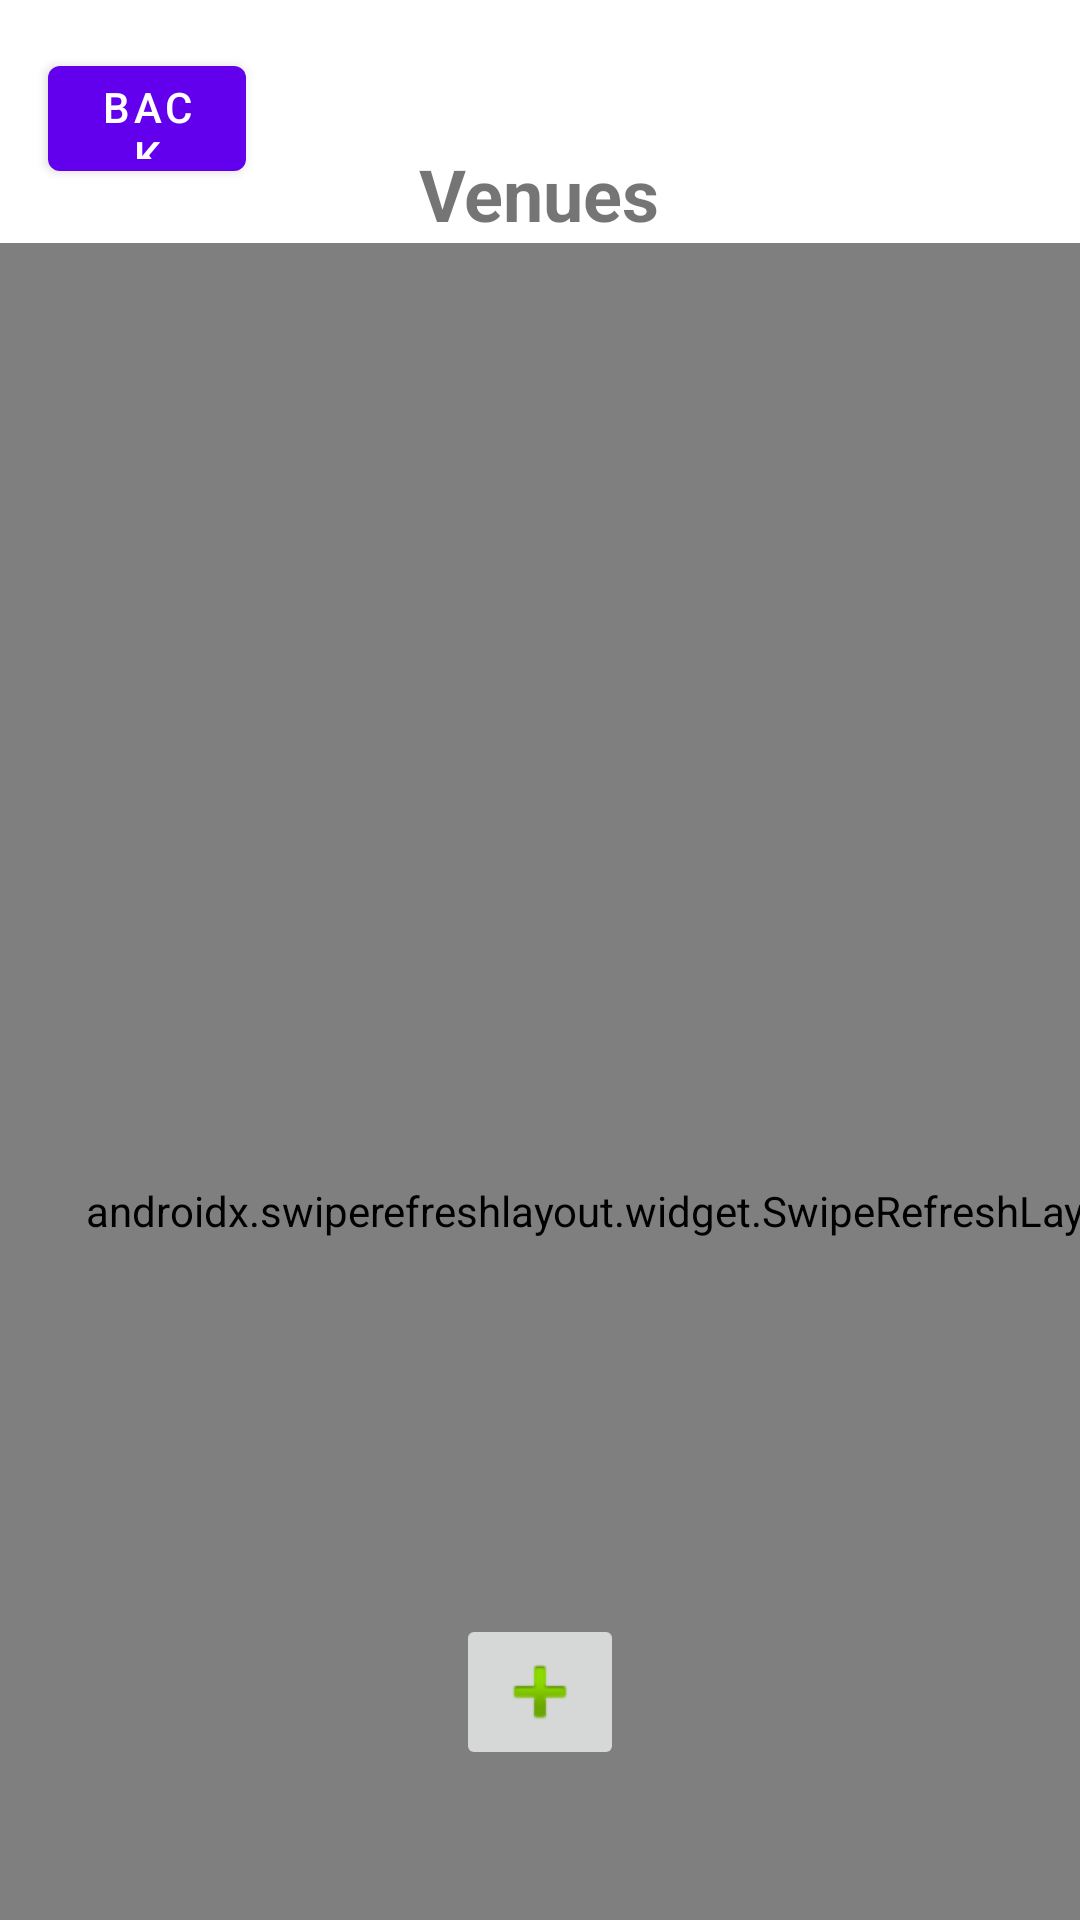

Icons on this 1080x1920 Android screen, each with the point to tap as point (x, y):
add: point (540, 1692)
